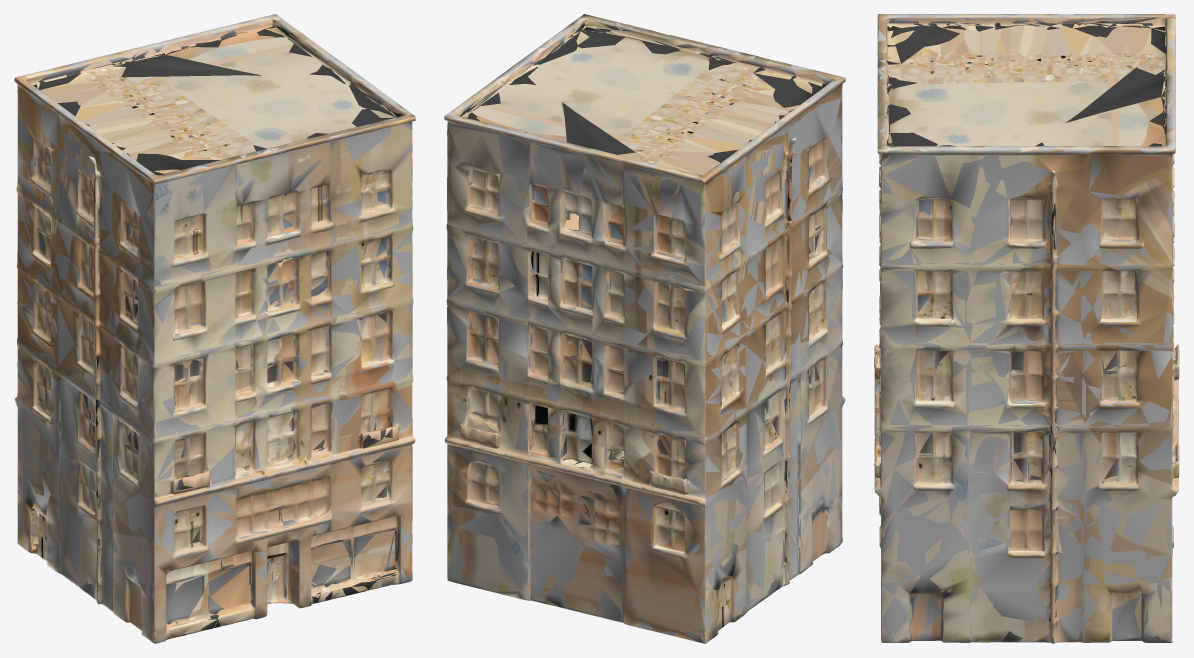
Rendered from bina4.fbx.
The picture shows the model from 3 angles, left to right: view 1: azimuth 30°, elevation 25°; view 2: azimuth 150°, elevation 25°; view 3: azimuth 270°, elevation 25°; orthographic projection. The views are drawn at different scales.
Parts seen in each view (by area): view 1: Mesh_0, Mesh_0.001; view 2: Mesh_0, Mesh_0.001; view 3: Mesh_0, Mesh_0.001.
Part boxes in pixels (box(x1,y1,x2,y2)): Mesh_0: box(14, 15, 415, 643); Mesh_0.001: box(16, 14, 413, 636); Mesh_0: box(444, 14, 845, 643); Mesh_0.001: box(444, 21, 845, 642); Mesh_0: box(874, 14, 1179, 643); Mesh_0.001: box(874, 14, 1178, 642).
Bounding box in the file's own units: 119 × 191 × 107.
